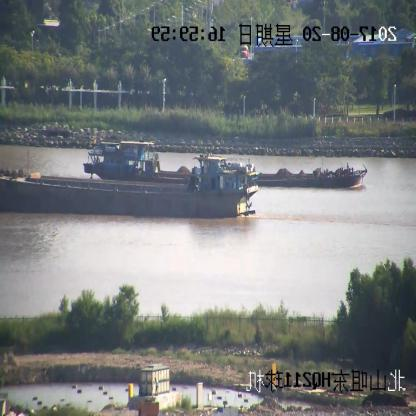Bulk Carrier: (0, 158, 258, 219)
